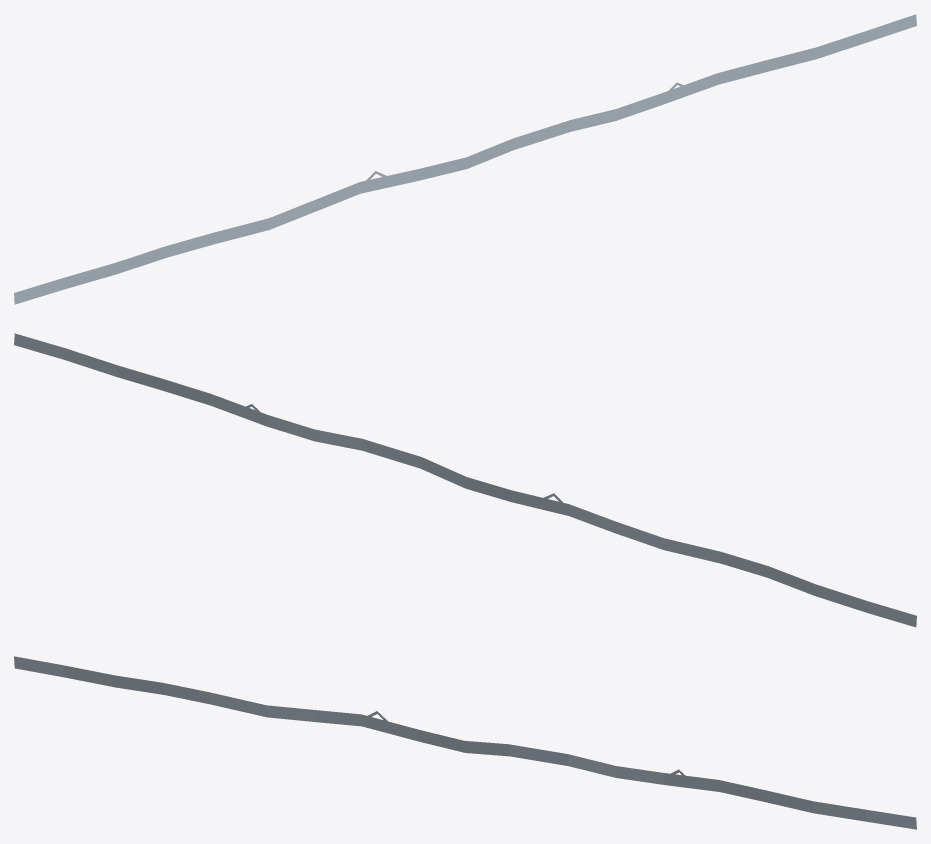
The model's file is Fischl_OzAttack_NoBodyC1_C1SourceEyeShot25.fbx.
The picture shows the model from 3 angles, top to bottom: view 1: azimuth 30°, elevation 25°; view 2: azimuth 150°, elevation 25°; view 3: azimuth 330°, elevation 25°; orthographic projection.
Visible parts, largest first — view 1: PART_C1SourceEyeShot25_VioletCorona, PART_C1SourceEyeShot25_SharpWhiteVioletCore; view 2: PART_C1SourceEyeShot25_VioletCorona, PART_C1SourceEyeShot25_SharpWhiteVioletCore; view 3: PART_C1SourceEyeShot25_VioletCorona, PART_C1SourceEyeShot25_SharpWhiteVioletCore.
Boxes of the visible parts, x1,y1,x2,y2 form: PART_C1SourceEyeShot25_VioletCorona: [14, 14, 916, 304]; PART_C1SourceEyeShot25_SharpWhiteVioletCore: [14, 18, 916, 300]; PART_C1SourceEyeShot25_VioletCorona: [14, 333, 916, 627]; PART_C1SourceEyeShot25_SharpWhiteVioletCore: [14, 337, 916, 623]; PART_C1SourceEyeShot25_VioletCorona: [14, 656, 916, 829]; PART_C1SourceEyeShot25_SharpWhiteVioletCore: [14, 660, 916, 825].
Size of the model in its own units: 640 by 49.08 by 3.64.
